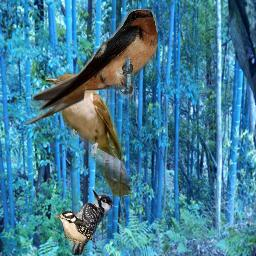Cuckoo: (43, 71, 132, 199)
Swallow: (16, 9, 158, 125)
Woodpecker: (59, 187, 113, 255), (54, 211, 94, 246)
